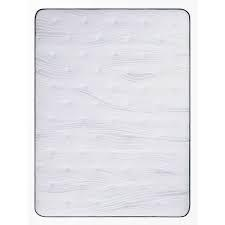Bed-Mattress: (28, 6, 193, 220)
